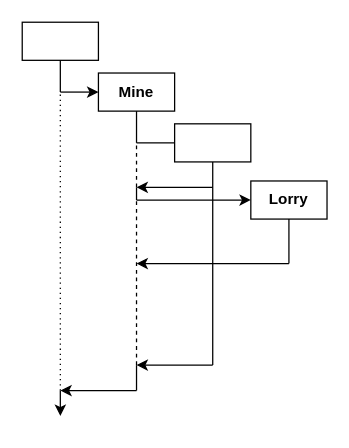
The diagram is 349 pixels wide and 448 high, and some of its shapes have lost their labels. Here are the shapes that lost their labels. From the top down, the centre of each, then its label:
At point 59,40: "main".
At point 212,142: "Worker".
